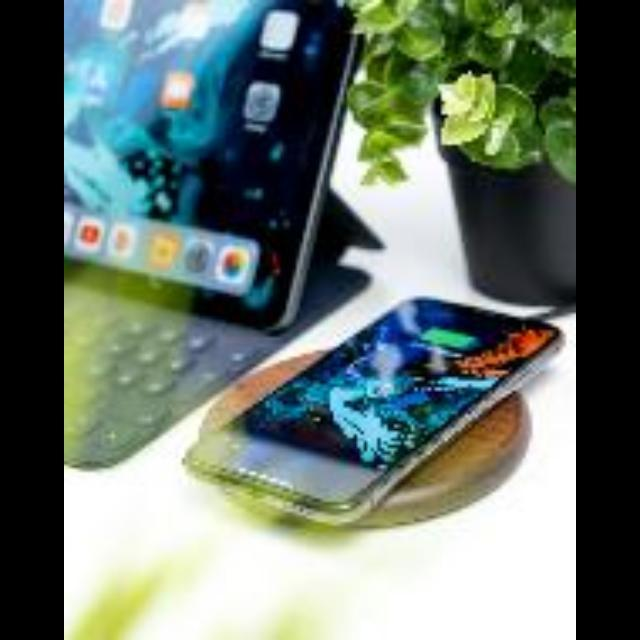Phone: (184, 297, 564, 519)
